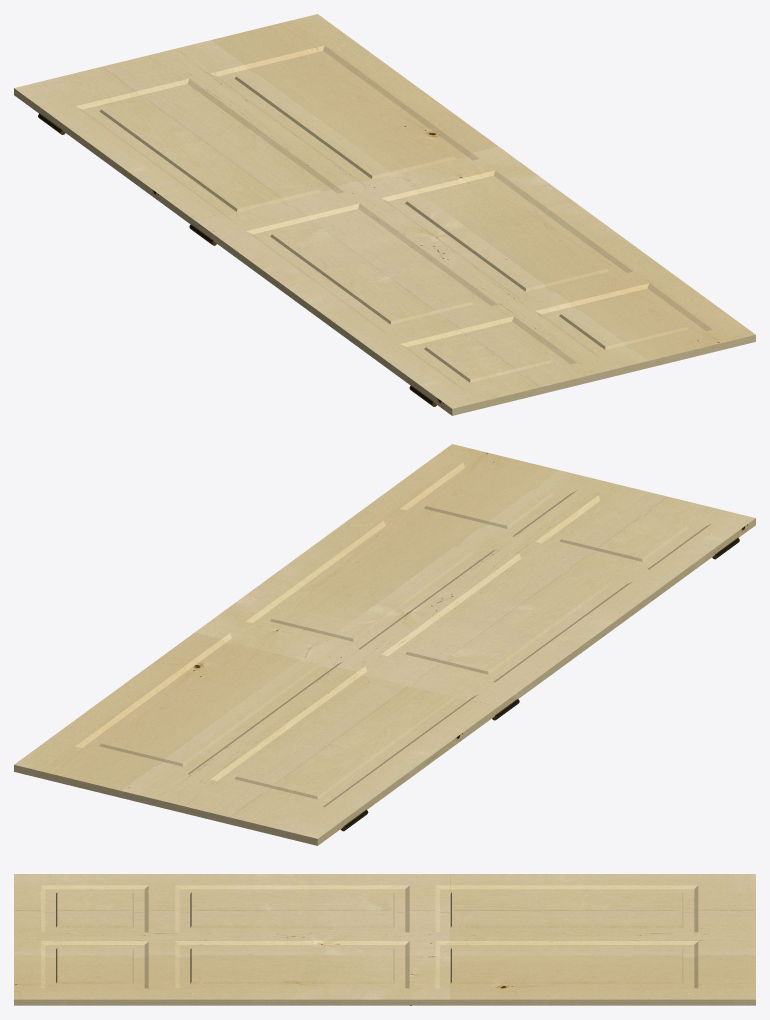
Rendered from 10057_wooden_door_v3_iterations-2.obj.
3 views of the same model, one above another, from view 1: azimuth 30°, elevation 25°; view 2: azimuth 150°, elevation 25°; view 3: azimuth 270°, elevation 25° (orthographic). The views are drawn at different scales.
Parts seen in each view (by area): view 1: 10057_wooden_door_v1; view 2: 10057_wooden_door_v1; view 3: 10057_wooden_door_v1.
Boxes of the visible parts, x1,y1,x2,y2 form: 10057_wooden_door_v1: (14,14,755,415); 10057_wooden_door_v1: (14,444,755,845); 10057_wooden_door_v1: (14,874,755,1005).
Bounding box in the file's own units: 80.99 × 3.19 × 201.
Materials: 1 (1 with a texture image).
